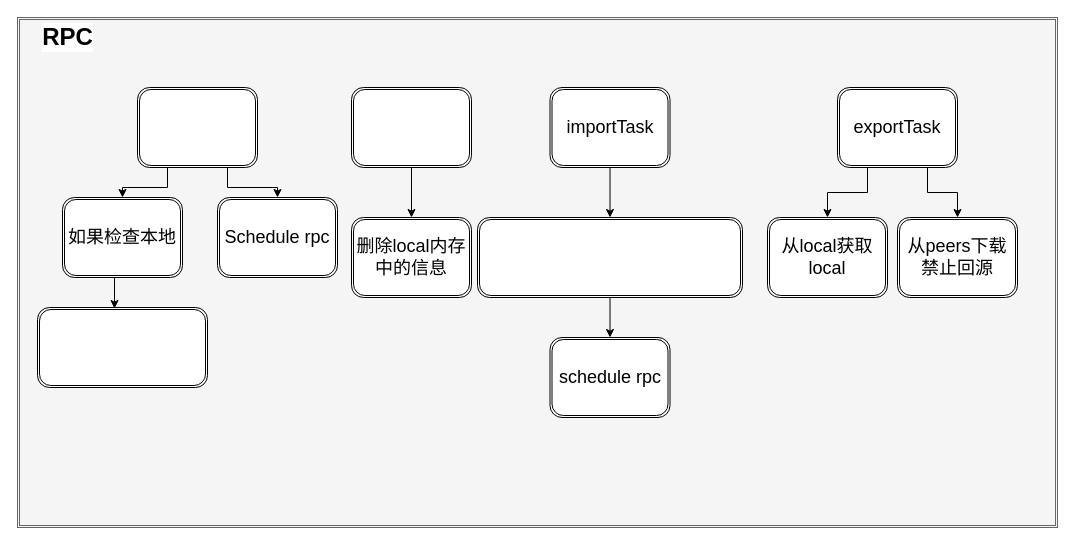
Image size: 1075x545. Some labels were removed from this diagram. The centre of each missing label's shape, as x and y in pixels:
DeleteTask: point 411,127
Local内存检查是否有已完成task: point 122,347
StatTask: point 197,127
检查local内存是否已加载task 没有需要加载: point 609,257
